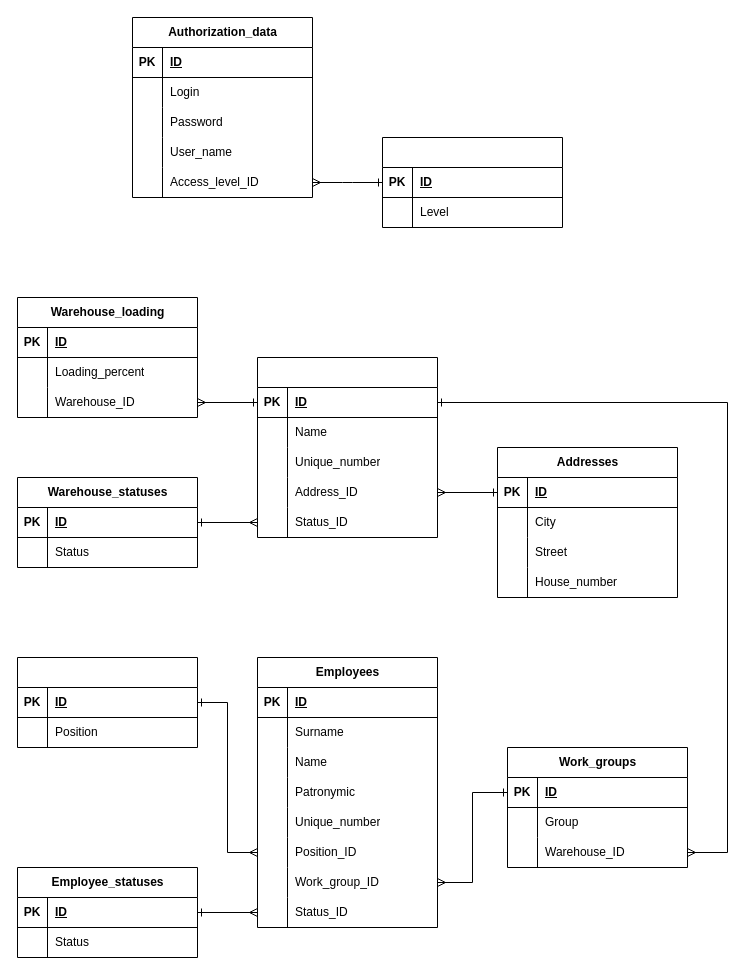
The diagram is 754 pixels wide and 975 high, and some of its shapes have lost their labels. The box of each missing label's shape, as (x1, y1, x2, y2) in pixels:
Access_levels: (382, 136, 562, 228)
Employee_positions: (16, 656, 198, 748)
Warehouses: (256, 356, 438, 538)
